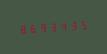eight: (17, 22, 26, 35)
five: (77, 18, 86, 31)
four: (57, 19, 66, 33)
nine: (37, 21, 46, 34)
six: (27, 21, 36, 35)
three: (47, 20, 56, 33), (67, 19, 76, 32)
